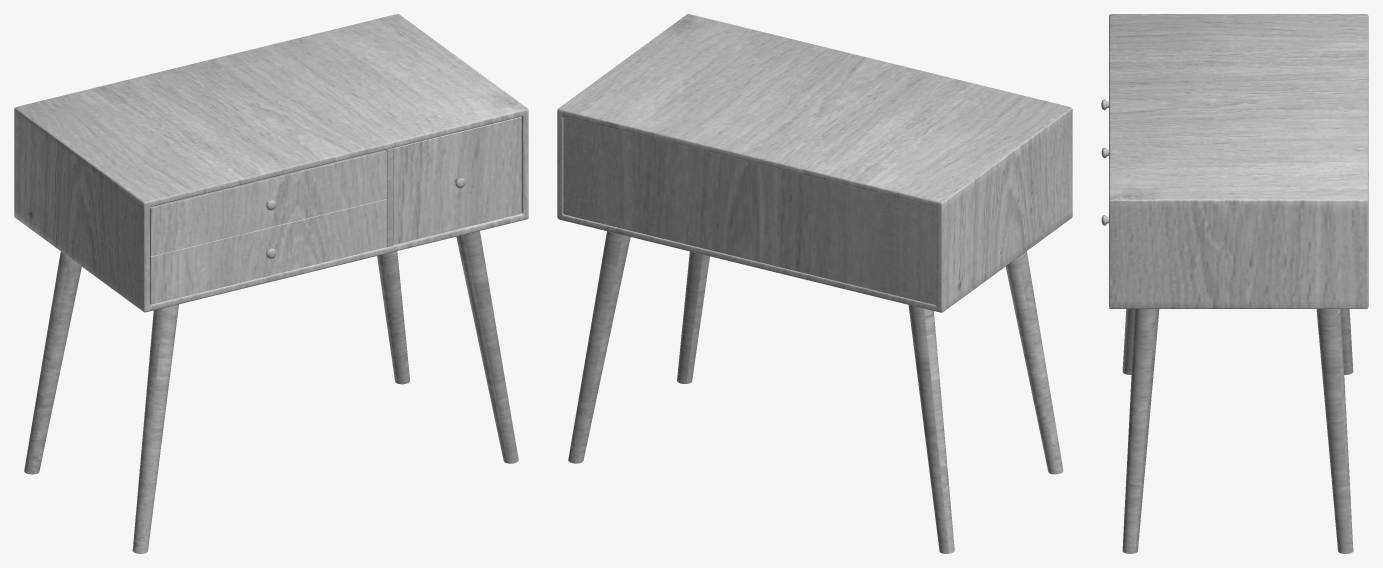
The model's file is VanityTable.glb.
The picture shows the model from 3 angles, left to right: view 1: azimuth 30°, elevation 25°; view 2: azimuth 150°, elevation 25°; view 3: azimuth 270°, elevation 25°; orthographic projection.
Visible parts, largest first — view 1: Circle.003; view 2: Circle.003; view 3: Circle.003.
Part boxes in pixels (left/top/right/bottom): Circle.003: left=14, top=14, right=528, bottom=553; Circle.003: left=557, top=14, right=1072, bottom=553; Circle.003: left=1101, top=14, right=1368, bottom=553.
Bounding box in the file's own units: 0.51 × 0.4528 × 0.3087.
Materials: 1 (1 with a texture image).
